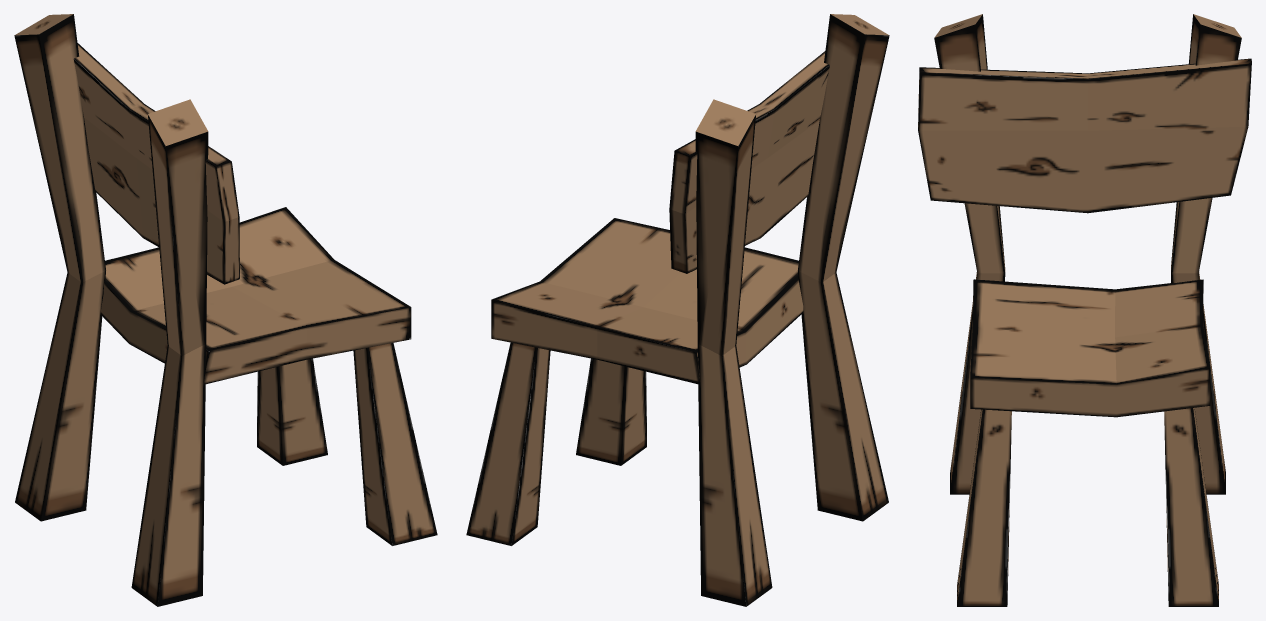
Rendered from krzesło1.fbx.
3 views of the same model, side by side, from view 1: azimuth 30°, elevation 25°; view 2: azimuth 150°, elevation 25°; view 3: azimuth 270°, elevation 25° (orthographic). The views are drawn at different scales.
Parts seen in each view (by area): view 1: krzesło1; view 2: krzesło1; view 3: krzesło1.
Boxes of the visible parts, bbox=[...] form: krzesło1: bbox=[14, 14, 437, 606]; krzesło1: bbox=[466, 14, 889, 606]; krzesło1: bbox=[918, 14, 1251, 606].
Size of the model in its own units: 77.52 by 127 by 81.76.
Materials: 1 (1 with a texture image).
